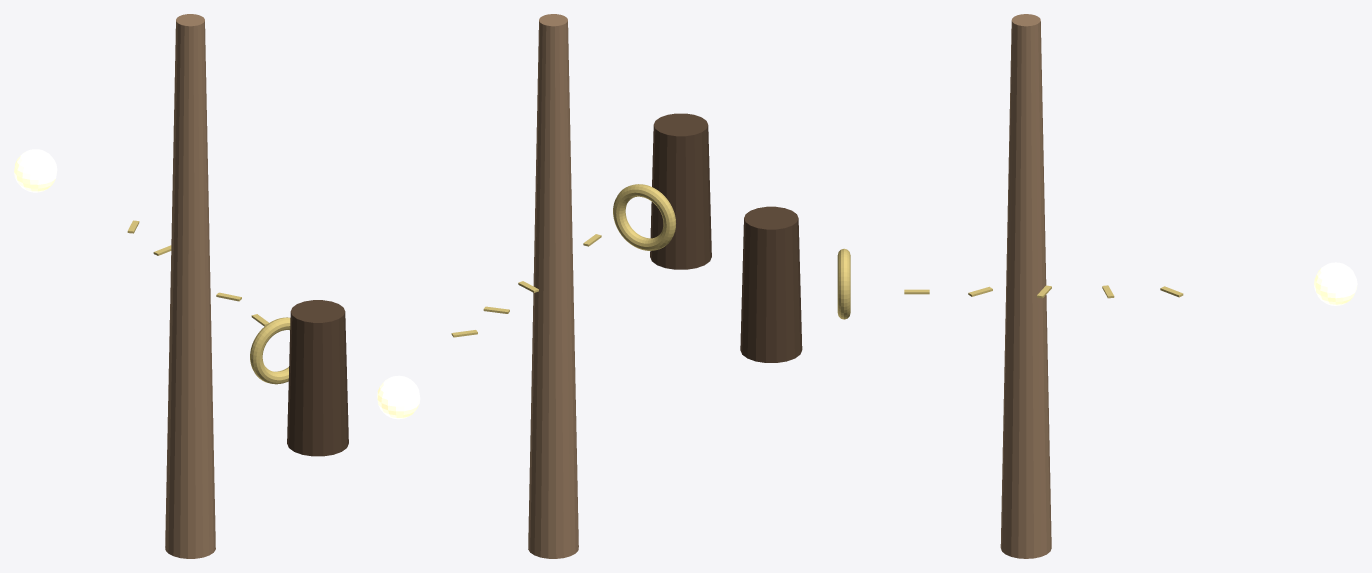
File: holly_wand.glb
3 views of the same model, side by side, from view 1: azimuth 30°, elevation 25°; view 2: azimuth 150°, elevation 25°; view 3: azimuth 270°, elevation 25° (orthographic).
Parts seen in each view (by area): view 1: shaft, grip, wandTip, band; view 2: shaft, grip, band, wandTip; view 3: shaft, grip, wandTip, band.
Boxes of the visible parts, x1,y1,x2,y2 form: shaft: (165,14,215,558); grip: (287,300,348,456); wandTip: (14,149,57,192); band: (250,317,290,384); shaft: (528,14,578,558); grip: (650,113,711,269); band: (613,184,675,250); wandTip: (377,375,420,419); shaft: (1000,14,1051,558); grip: (740,206,802,362); wandTip: (1314,262,1357,305); band: (837,248,850,319).
Size of the model in its own units: 0.039 by 0.32 by 0.339.
